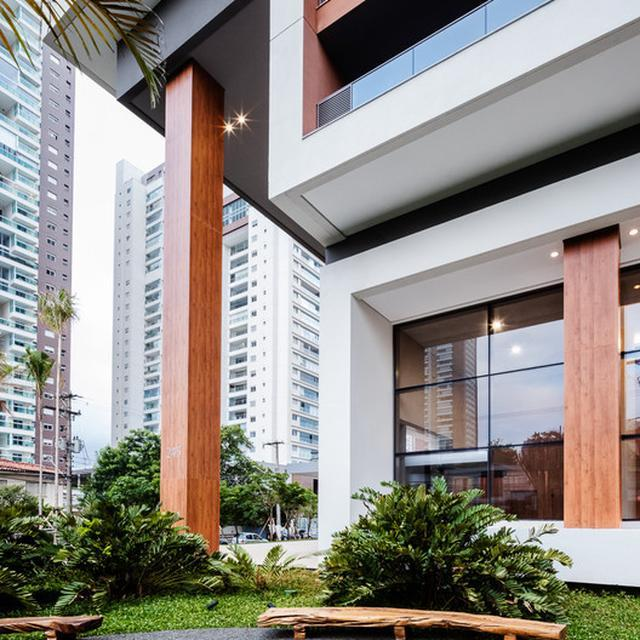building: (43, 0, 640, 536), (111, 149, 331, 516), (0, 0, 77, 505)
